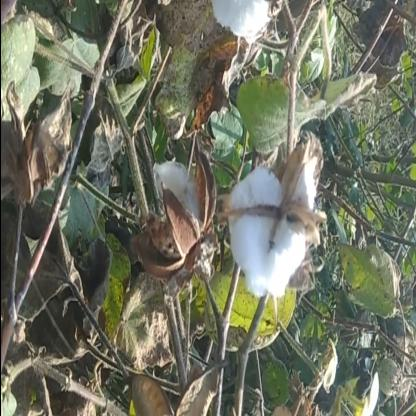cotton_ready: (205, 132, 335, 298)
